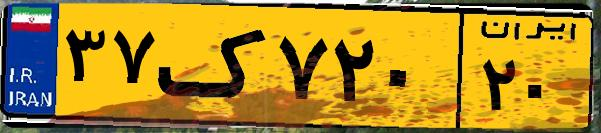0: (385, 28, 445, 110), (525, 38, 570, 115)
2: (330, 28, 385, 110), (475, 38, 525, 113)
3: (57, 26, 110, 100)
7: (270, 28, 330, 110), (110, 28, 158, 98)
ک: (158, 12, 270, 120)
